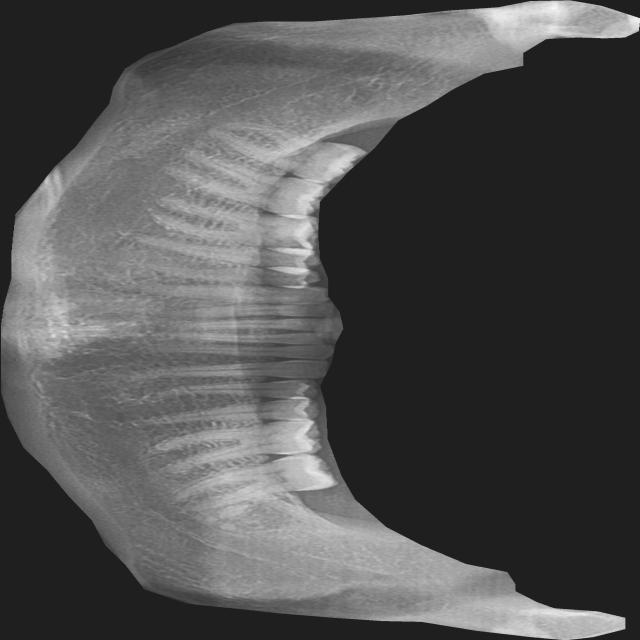mandibula: (0, 0, 640, 640)
